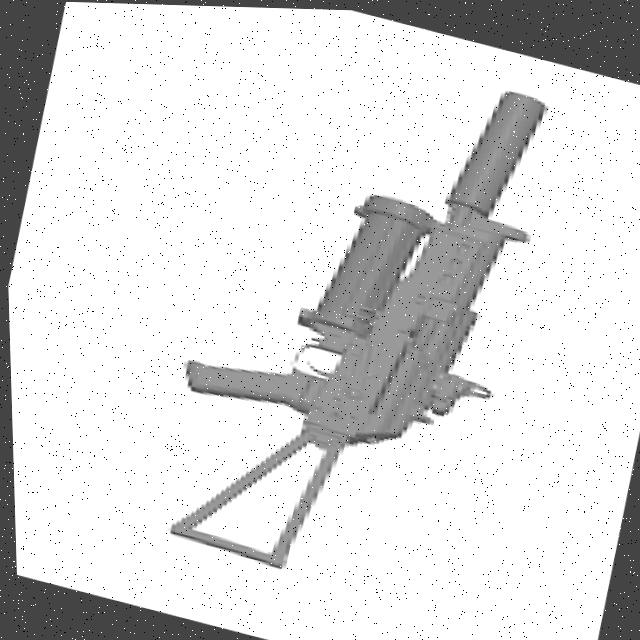firearm: (137, 19, 566, 612)
